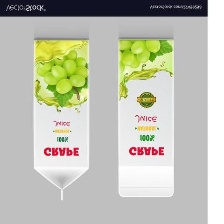carton: (110, 35, 177, 201), (30, 35, 94, 203)
